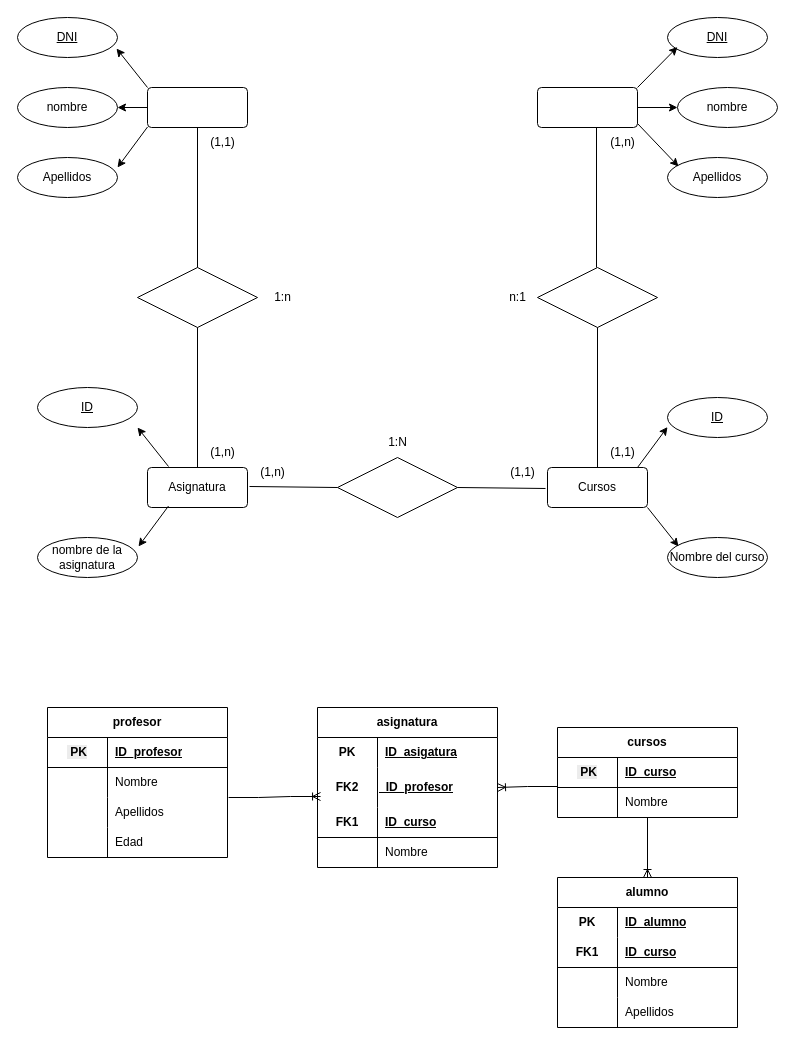
This 795x1045 diagram has some shape labels left out. The box of each missing label's shape, as (x1, y1, x2, y2) in pixels:
Alumnos: (536, 86, 638, 128)
Imparten: (136, 266, 258, 328)
Matriculado: (536, 266, 658, 328)
Pertenece a: (336, 456, 458, 518)
Profesores: (146, 86, 248, 128)
